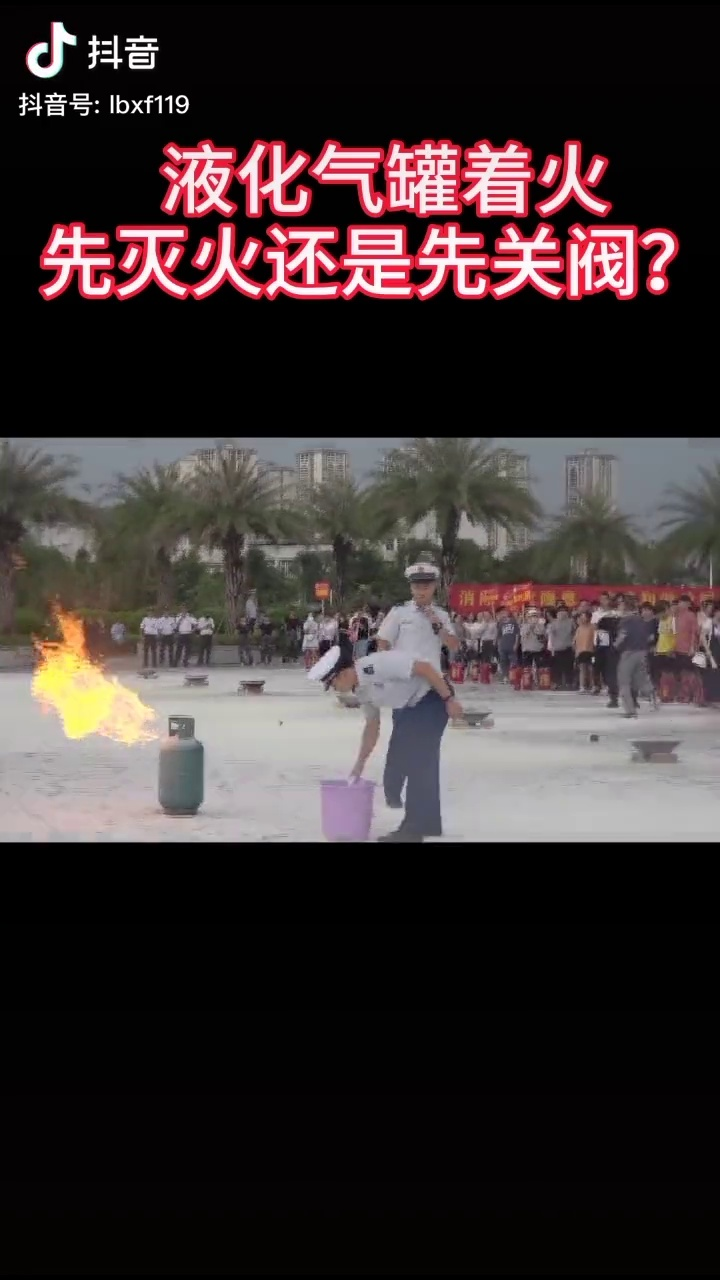fire: (35, 602, 162, 740)
